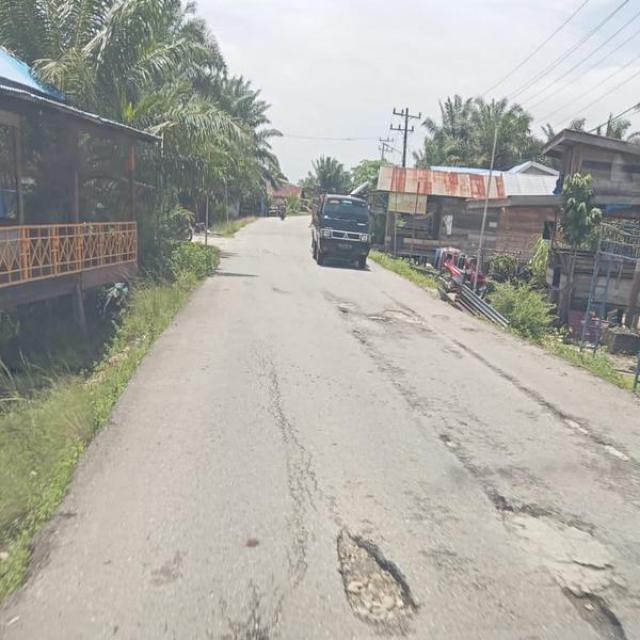Lubang: (338, 533, 412, 631)
